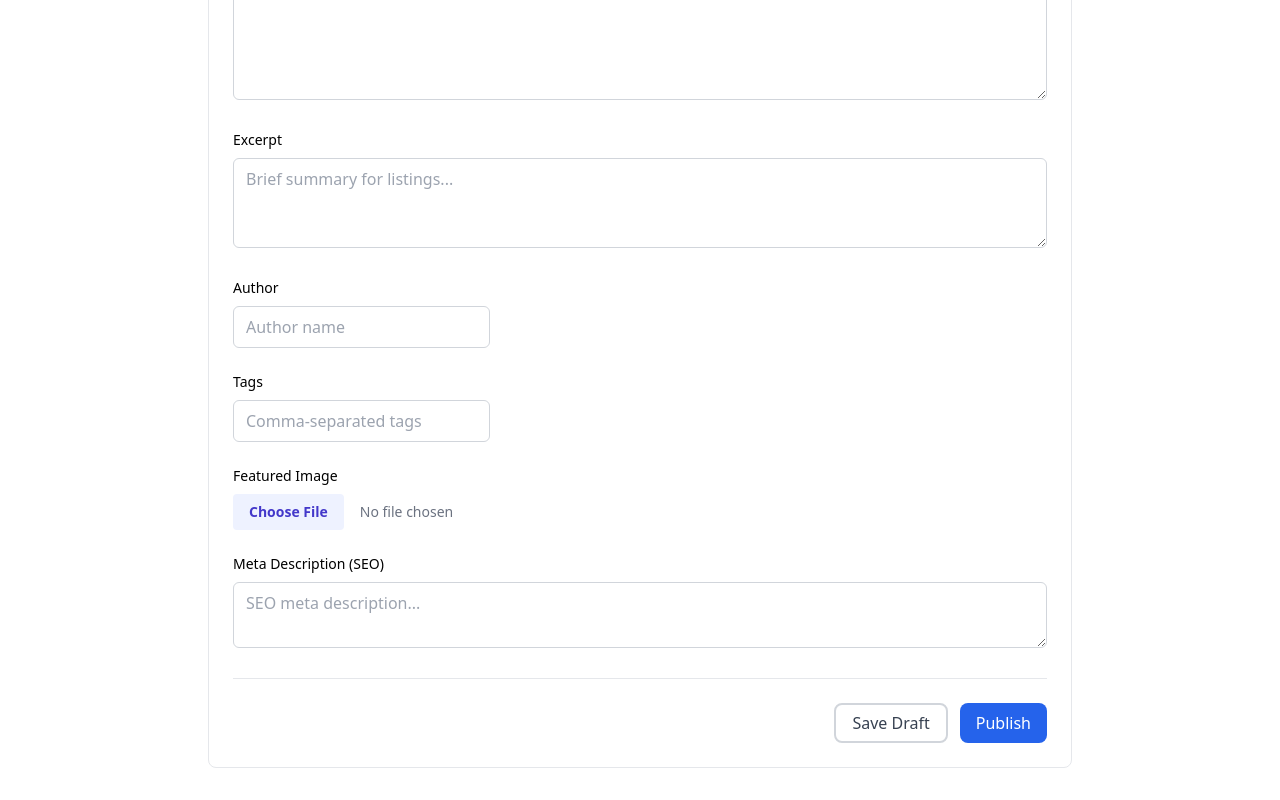
it: BlogAdminEditor › AC-10.2: Draft/Publish Workflow › validates required fields before publishing
(page scrolled)
Click the button "Publish".
click(1003, 723)  # box [960, 703, 1047, 743]
(page scrolled)
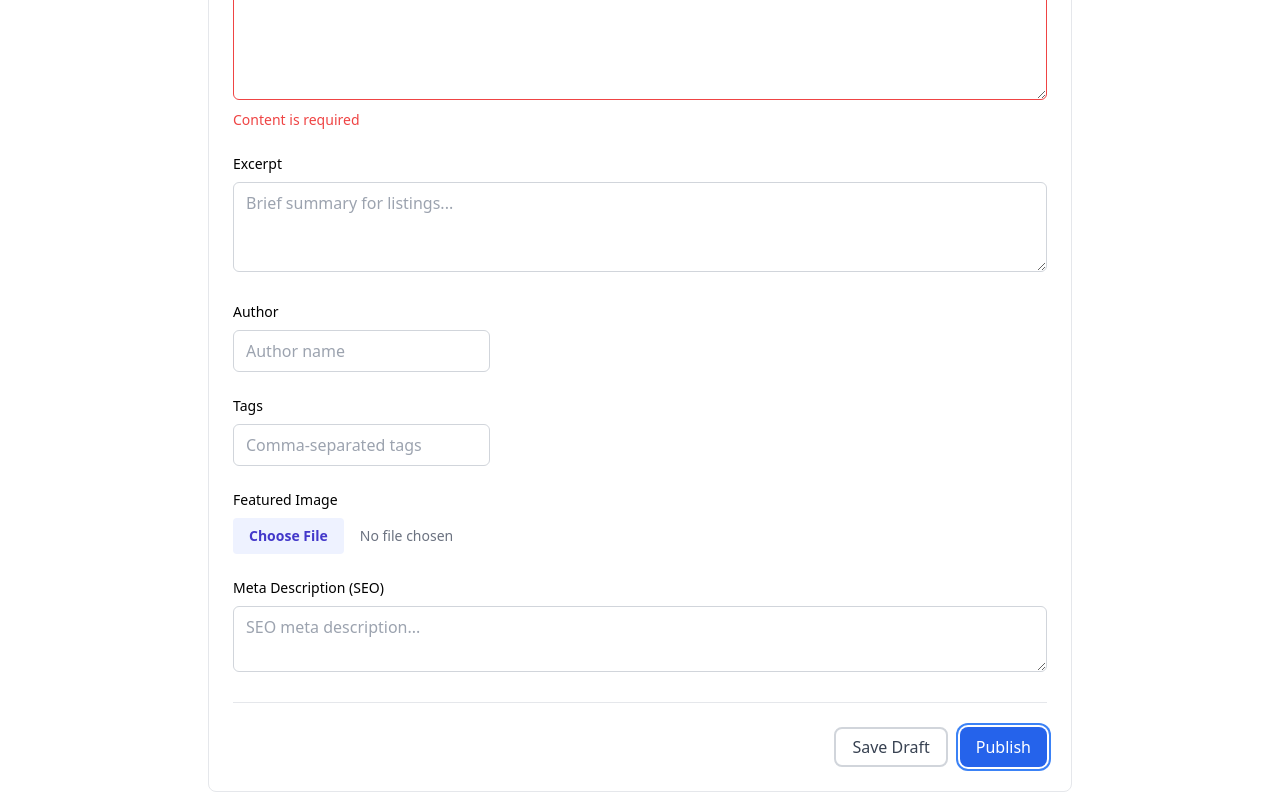
Result: the text "Content is required" is shown at [233, 110, 360, 129]
